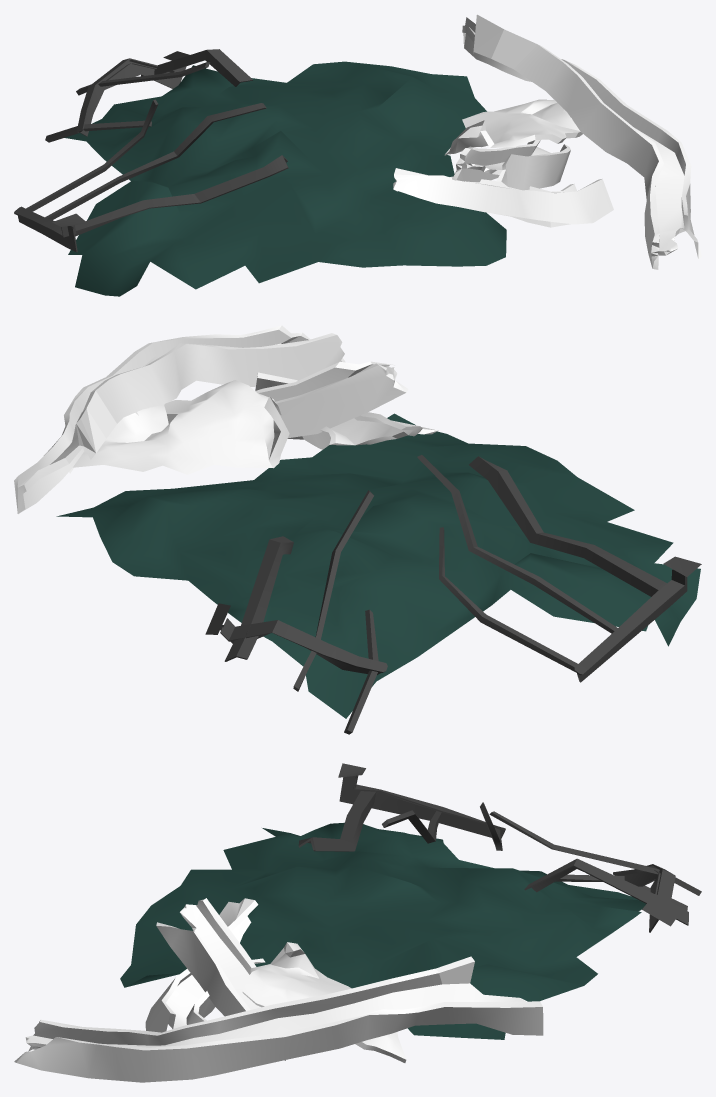
The model's file is SM_H_Building_Tide_JailDig_Scaffold_07_ATLAS.fbx.
3 views of the same model, one above another, from view 1: azimuth 30°, elevation 25°; view 2: azimuth 150°, elevation 25°; view 3: azimuth 270°, elevation 25° (orthographic). The views are drawn at different scales.
Parts seen in each view (by area): view 1: SM_H_Building_Tide_JailDig_Scaffold_07_ATLAS; view 2: SM_H_Building_Tide_JailDig_Scaffold_07_ATLAS; view 3: SM_H_Building_Tide_JailDig_Scaffold_07_ATLAS.
Part boxes in pixels (x1,y1,x2,y2): SM_H_Building_Tide_JailDig_Scaffold_07_ATLAS: [14, 14, 701, 296]; SM_H_Building_Tide_JailDig_Scaffold_07_ATLAS: [14, 325, 701, 734]; SM_H_Building_Tide_JailDig_Scaffold_07_ATLAS: [14, 763, 701, 1082].
Bounding box in the file's own units: 614 × 618 × 141.
